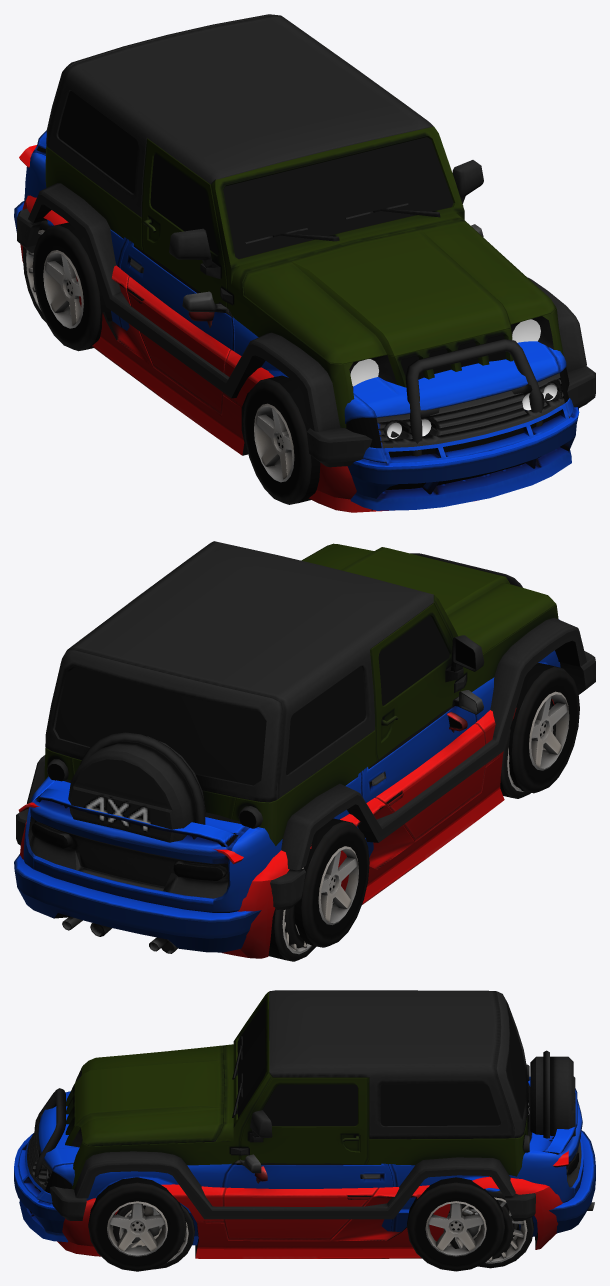
Rendered from car (1).fbx.
The picture shows the model from 3 angles, top to bottom: view 1: azimuth 30°, elevation 25°; view 2: azimuth 150°, elevation 25°; view 3: azimuth 270°, elevation 25°; orthographic projection. The views are drawn at different scales.
Visible parts, largest first — view 1: polySurface139, polySurface43, polySurface142, polySurface85, pasted__Wheel_G, pasted__Wheel_G001, pasted__Wheel_H003; view 2: polySurface139, polySurface43, polySurface142, polySurface85, pasted__Wheel_G, pasted__Wheel_G001, pasted__Wheel_H003, pasted__Wheel_H; view 3: polySurface139, polySurface43, polySurface85, polySurface142, pasted__Wheel_G, pasted__Wheel_G001, pasted__Wheel_H003, pasted__Wheel_H, polySurface63, polySurface13.
Boxes of the visible parts, x1,y1,x2,y2 form: polySurface139: (17,14,595,467); polySurface43: (14,130,579,510); polySurface142: (58,91,453,259); polySurface85: (19,145,476,512); pasted__Wheel_G: (243,375,578,504); pasted__Wheel_G001: (32,222,112,351); pasted__Wheel_H003: (22,220,70,321); polySurface139: (16,541,595,909); polySurface43: (14,619,560,952); polySurface142: (55,616,449,785); polySurface85: (18,698,554,958); pasted__Wheel_G: (508,663,579,793); pasted__Wheel_G001: (294,818,369,947); pasted__Wheel_H003: (268,867,332,961); pasted__Wheel_H: (500,703,555,798); polySurface139: (34,990,575,1221); polySurface43: (14,1077,595,1245); polySurface85: (57,1150,568,1258); polySurface142: (237,1001,526,1126); pasted__Wheel_G: (88,1177,186,1271); pasted__Wheel_G001: (407,1177,505,1271); pasted__Wheel_H003: (450,1190,533,1268); pasted__Wheel_H: (113,1204,194,1269); polySurface63: (444,1200,514,1258); polySurface13: (260,1082,531,1165).
Bounding box in the file's own units: 221 × 177 × 477.
